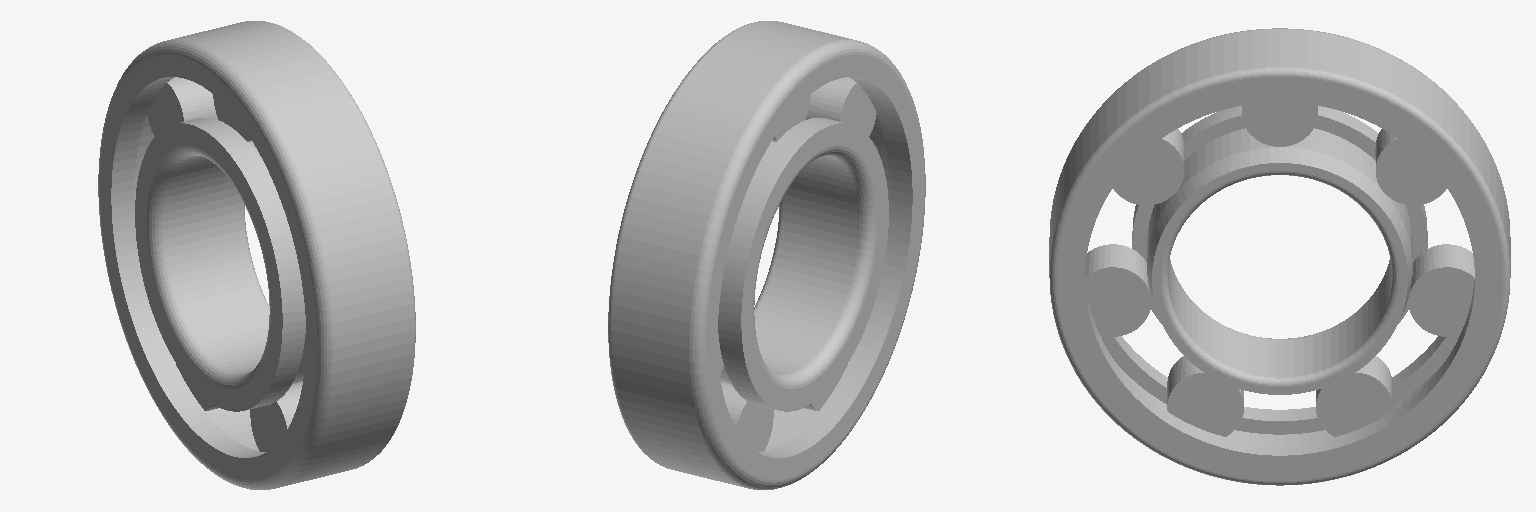
File: Подшипник 42207 ГОСТ 8328-75.obj
The picture shows the model from 3 angles: view 1: azimuth 30°, elevation 25°; view 2: azimuth 150°, elevation 25°; view 3: azimuth 270°, elevation 25°; orthographic projection.
Parts seen in each view (by area): view 1: Solid1; view 2: Solid1; view 3: Solid1.
Part boxes in pixels (x1,y1,x2,y2): Solid1: (98,21,415,489); Solid1: (608,21,925,489); Solid1: (1049,28,1510,485).
Bounding box in the file's own units: 17 × 72 × 72.